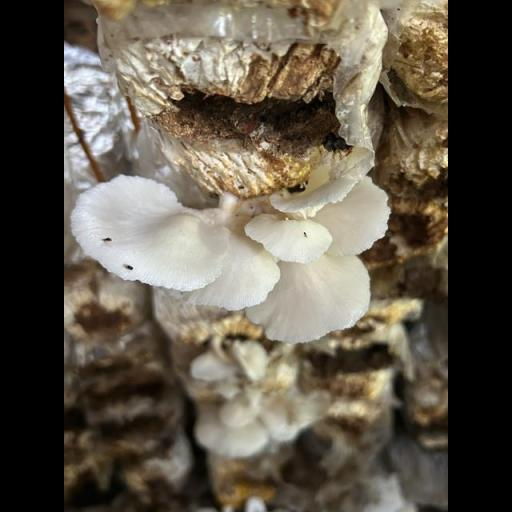White Oyster Mushroom: (76, 167, 387, 338), (190, 336, 325, 458)
